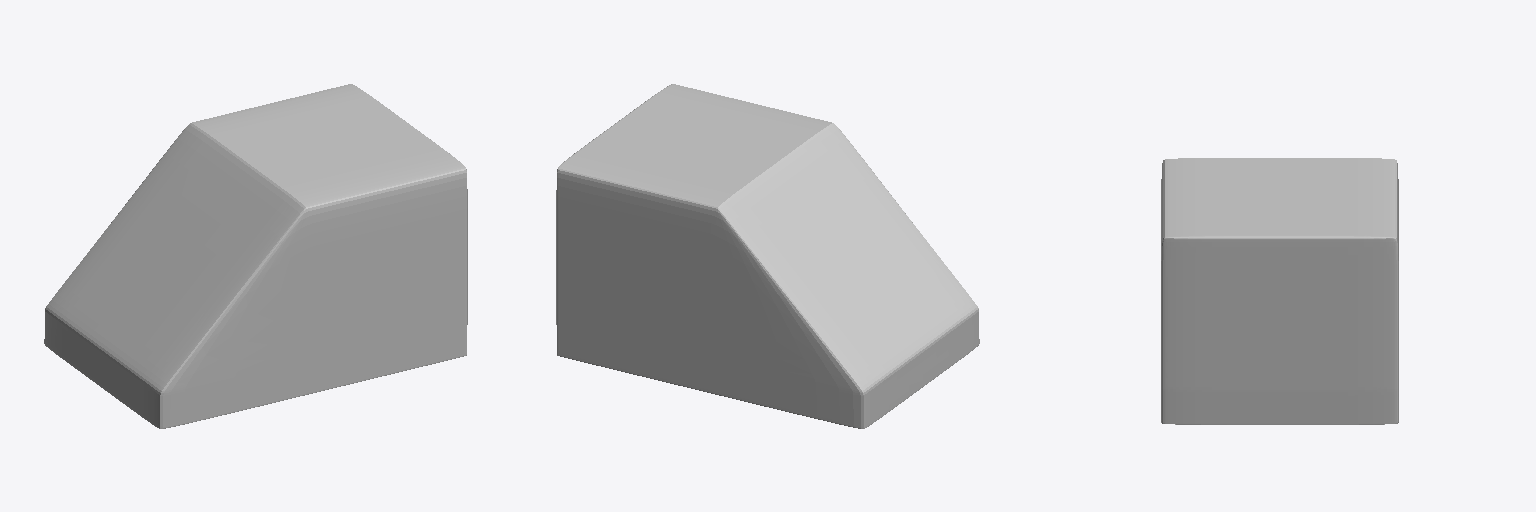
The model's file is Ramp.obj.
3 renders of one model, left to right at view 1: azimuth 30°, elevation 25°; view 2: azimuth 150°, elevation 25°; view 3: azimuth 270°, elevation 25°, orthographic.
Visible parts, largest first — view 1: ramp; view 2: ramp; view 3: ramp.
Boxes of the visible parts, x1,y1,x2,y2 form: ramp: [44, 84, 467, 428]; ramp: [556, 84, 979, 428]; ramp: [1161, 158, 1398, 424].
Size of the model in its own units: 1.4 by 0.8121 by 0.9252.